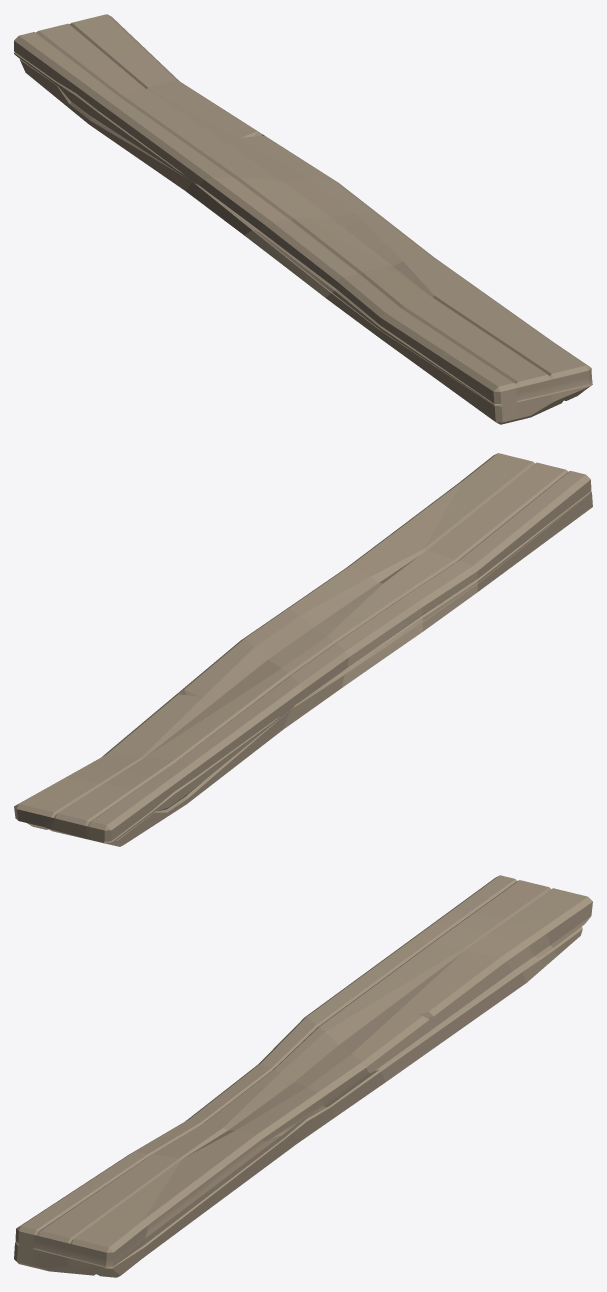
Rendered from planche00.fbx.
3 renders of one model, top to bottom at view 1: azimuth 30°, elevation 25°; view 2: azimuth 150°, elevation 25°; view 3: azimuth 330°, elevation 25°, orthographic.
Visible parts, largest first — view 1: planche00; view 2: planche00; view 3: planche00.
Part boxes in pixels (left/top/right/bottom): planche00: left=14, top=14, right=592, bottom=424; planche00: left=14, top=453, right=592, bottom=846; planche00: left=14, top=875, right=592, bottom=1277.
Bounding box in the file's own units: 3.68 × 1.45 × 31.65.
